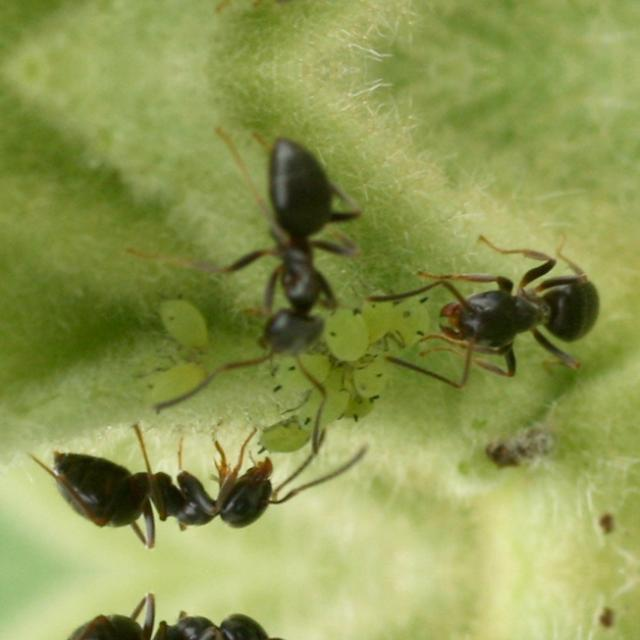Lasius: (411, 199, 629, 413), (29, 412, 315, 552), (223, 128, 367, 378), (29, 588, 315, 640)
